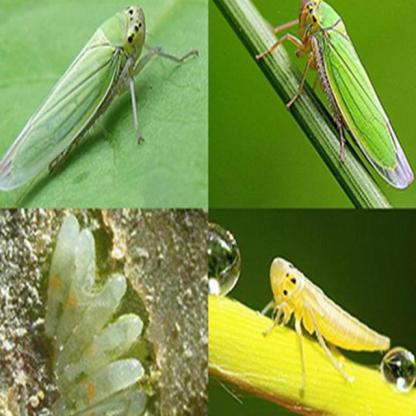Green-Leafhopper: (0, 3, 198, 205), (248, 2, 416, 203), (256, 252, 396, 397)
